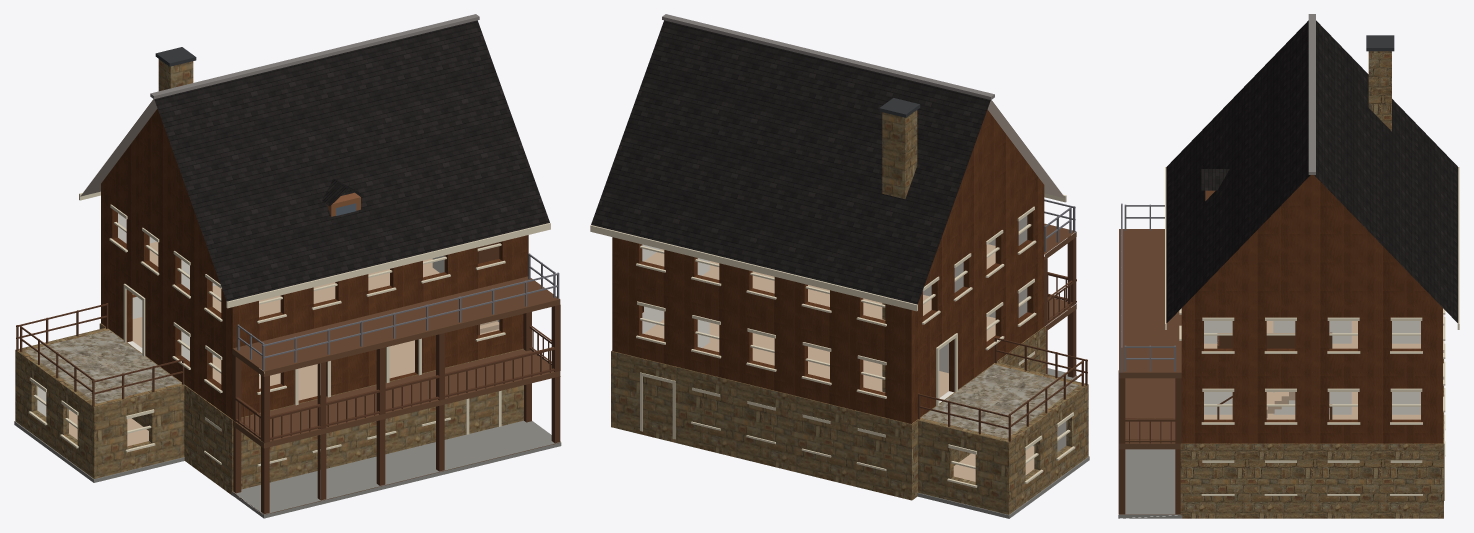
The model's file is rw-timber-lodge.towns-v2.lod0.glb.
3 views of the same model, side by side, from view 1: azimuth 30°, elevation 25°; view 2: azimuth 150°, elevation 25°; view 3: azimuth 270°, elevation 25° (orthographic).
Visible parts, largest first — view 1: rw-timber-lodge; view 2: rw-timber-lodge; view 3: rw-timber-lodge.
Boxes of the visible parts, <box> form: rw-timber-lodge: <box>14,14,561,518</box>; rw-timber-lodge: <box>590,14,1089,518</box>; rw-timber-lodge: <box>1118,14,1459,518</box>.
Bounding box in the file's own units: 17.74 × 14.97 × 13.07.
Materials: 7 (4 with a texture image).
